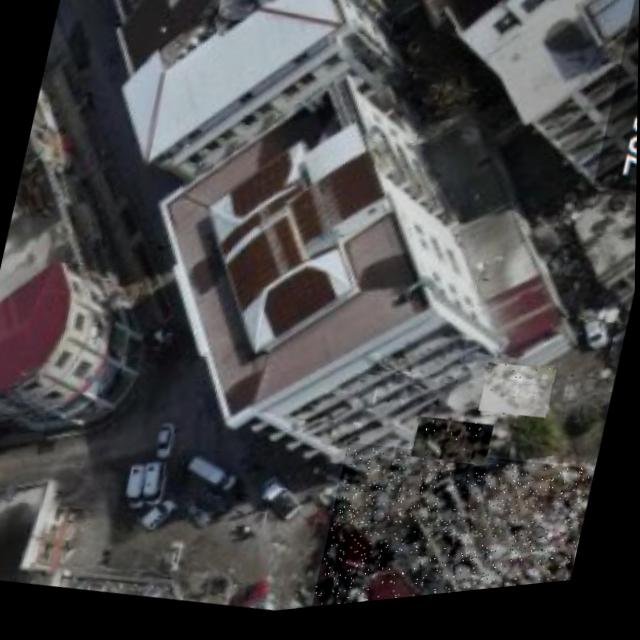Rubble: (312, 428, 596, 614), (478, 364, 560, 437), (412, 418, 496, 481)
